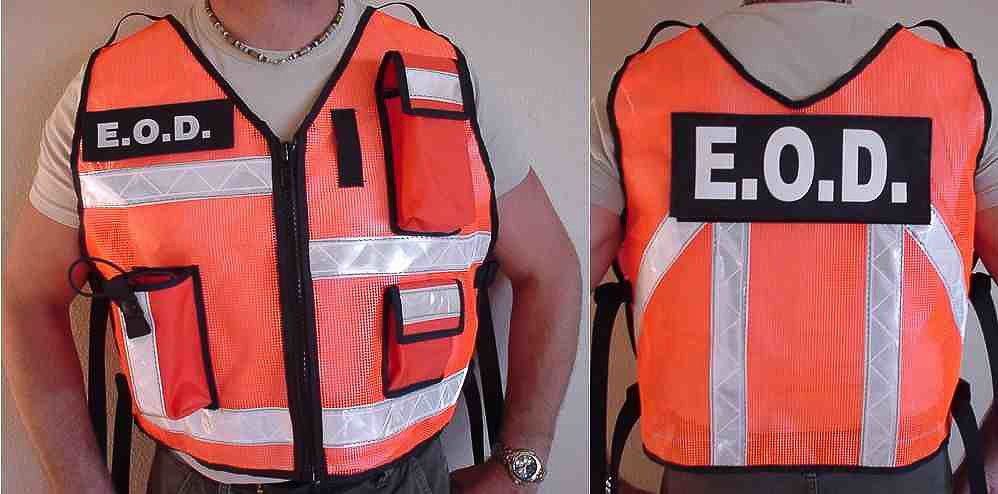Reflective vest: (86, 10, 504, 487), (610, 21, 994, 473)
